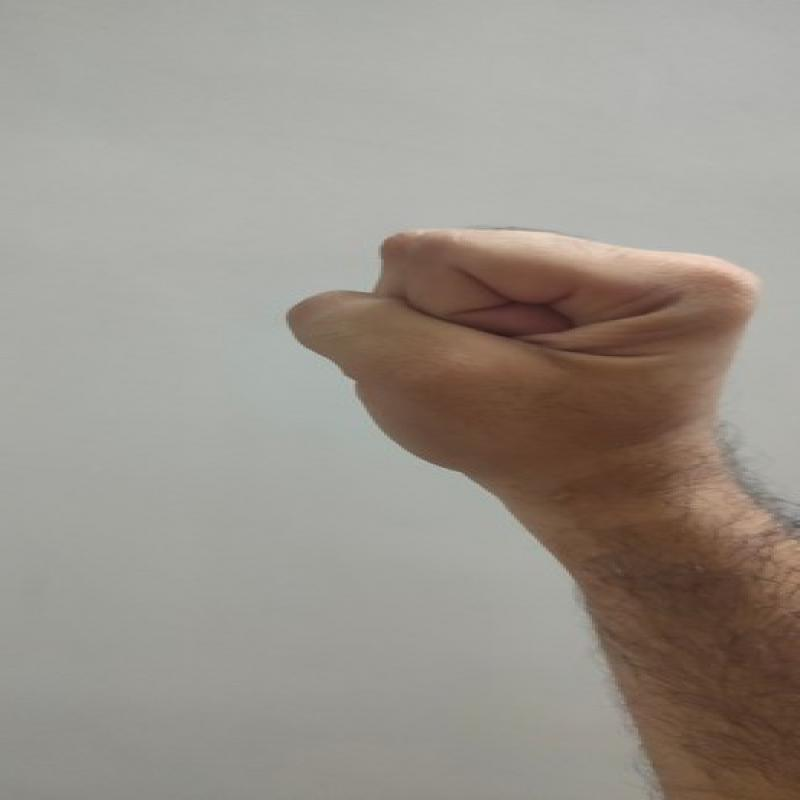Mushti: (272, 201, 784, 498)
